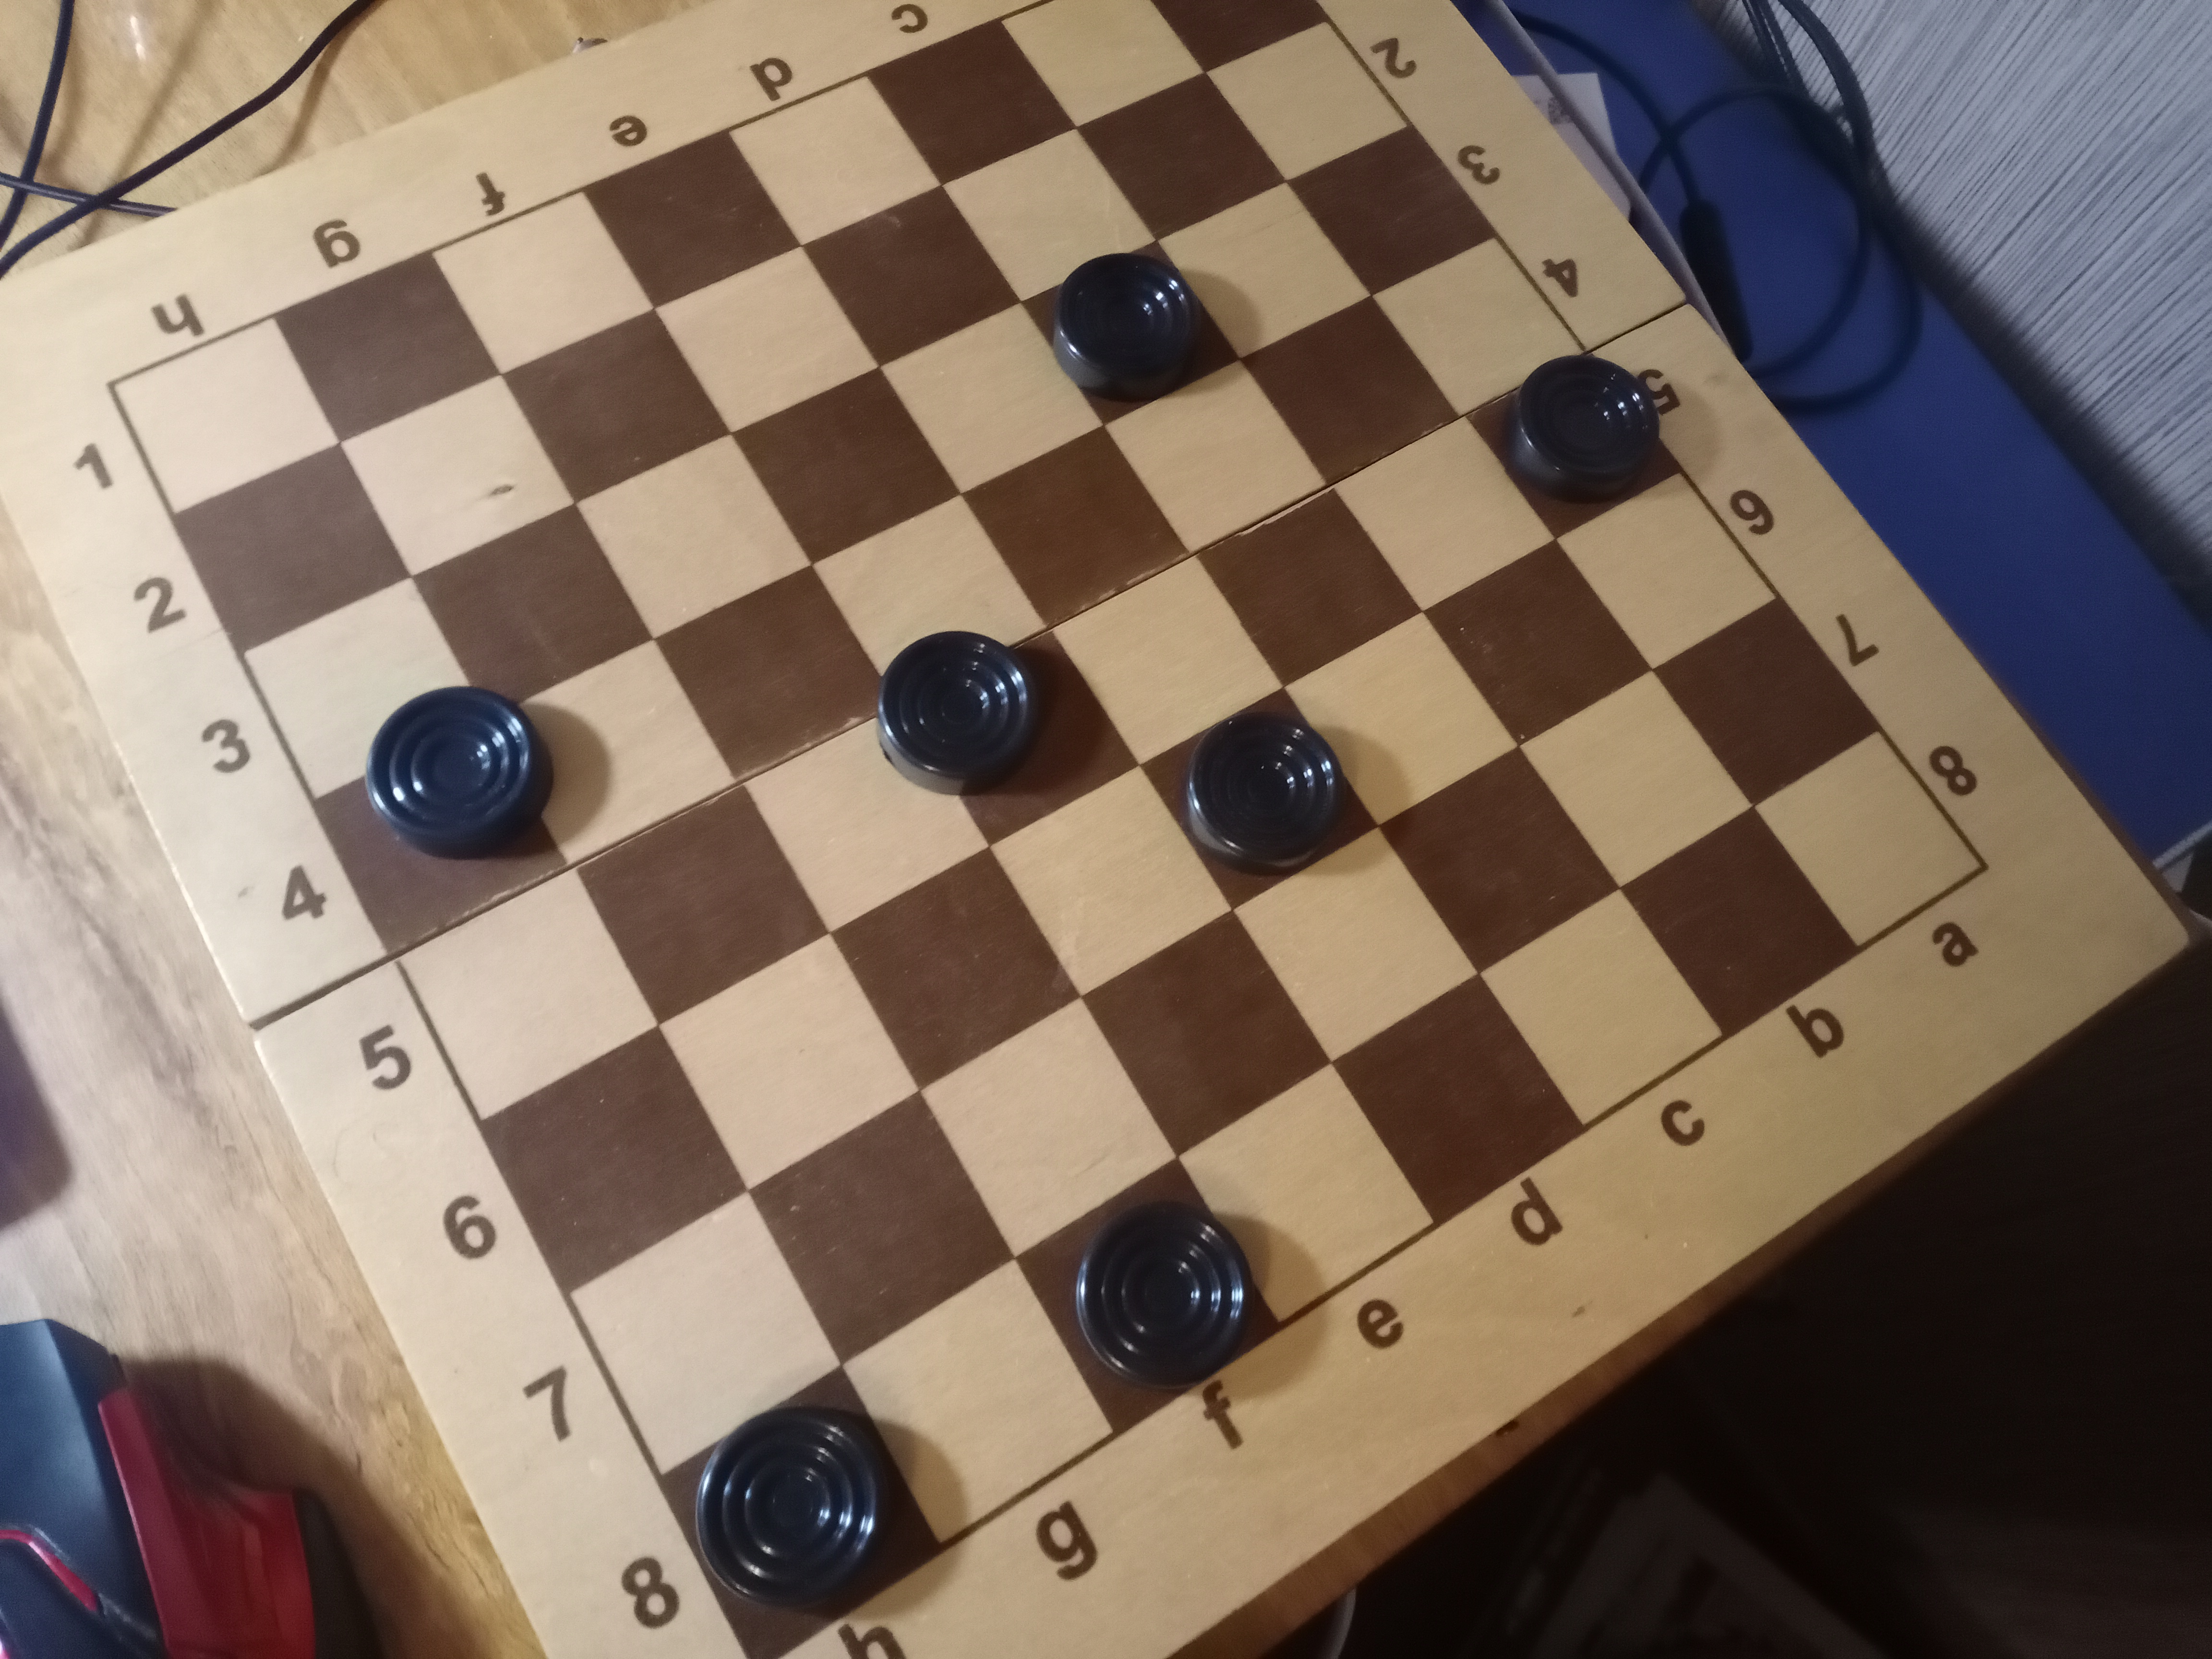Black_Draught: (655, 1368, 942, 1659), (1019, 1161, 1282, 1434), (315, 688, 570, 953), (874, 626, 1139, 847), (1139, 688, 1381, 913), (1021, 240, 1240, 427), (1465, 352, 1681, 540)
